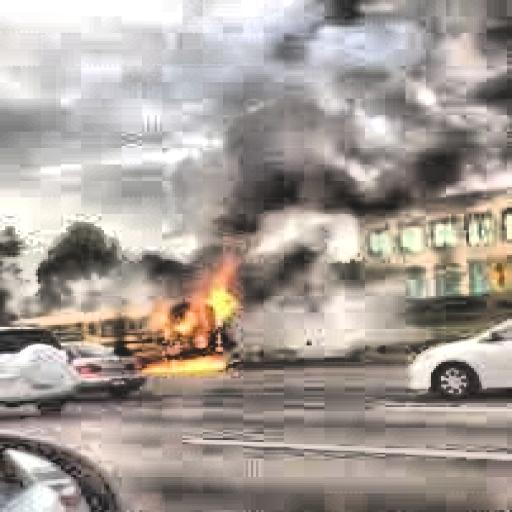fire: (152, 255, 261, 376)
